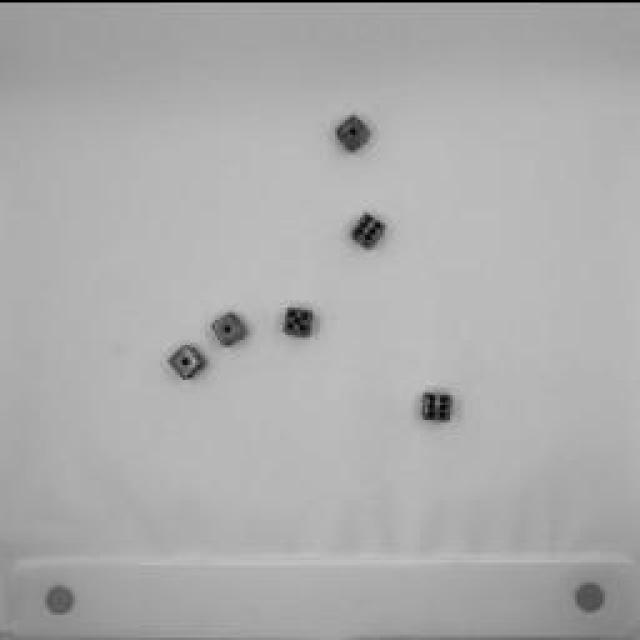dice_1: (165, 336, 215, 386), (329, 110, 381, 155), (209, 310, 251, 348)
dice_5: (278, 300, 318, 342)
dice_6: (345, 206, 395, 254), (418, 384, 458, 426)
